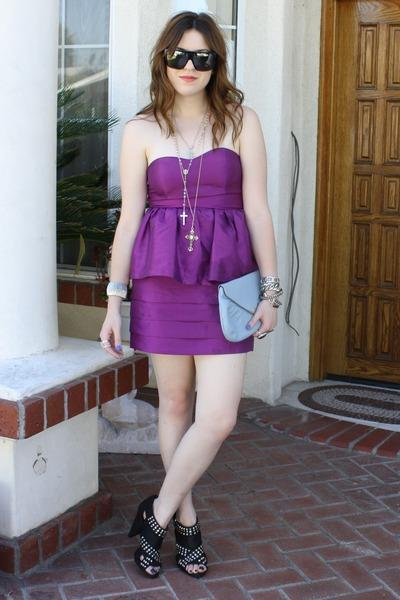bag: (218, 272, 296, 340)
dress: (122, 145, 261, 357)
shoe: (129, 484, 208, 578)
sunglass: (180, 46, 225, 72)
